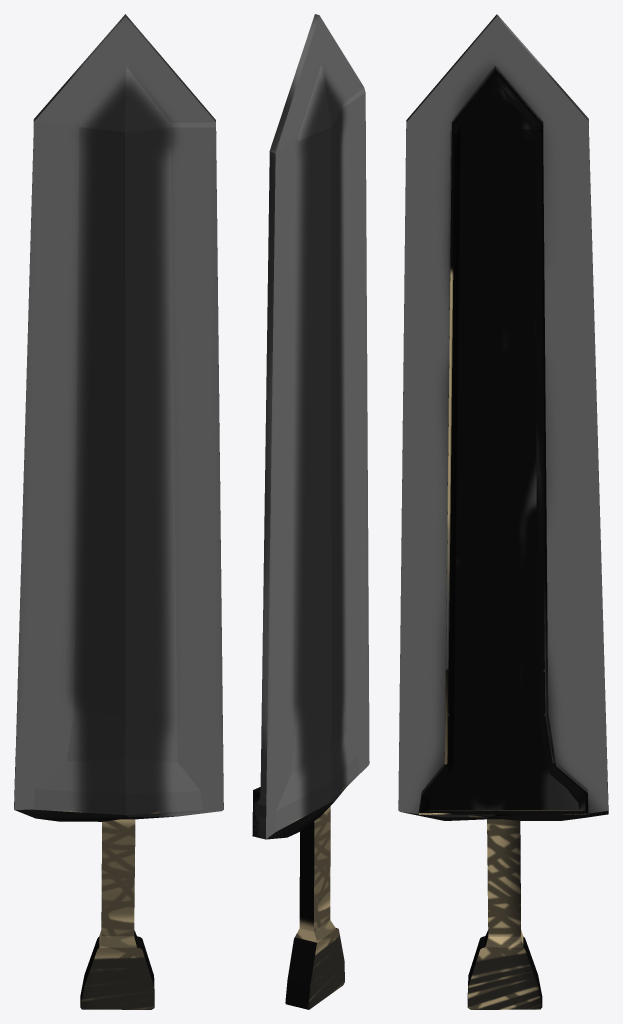
Rendered from Guts Blade.fbx.
The picture shows the model from 3 angles, left to right: view 1: azimuth 90°, elevation 25°; view 2: azimuth 150°, elevation 25°; view 3: azimuth 270°, elevation 25°; orthographic projection.
Parts seen in each view (by area): view 1: Plane; view 2: Plane; view 3: Plane.
Boxes of the visible parts, x1=… form: Plane: x1=14, y1=14, x2=223, y2=1009; Plane: x1=252, y1=14, x2=369, y2=1009; Plane: x1=398, y1=14, x2=608, y2=1009.
Size of the model in its own units: 63.73 by 2032 by 391.
